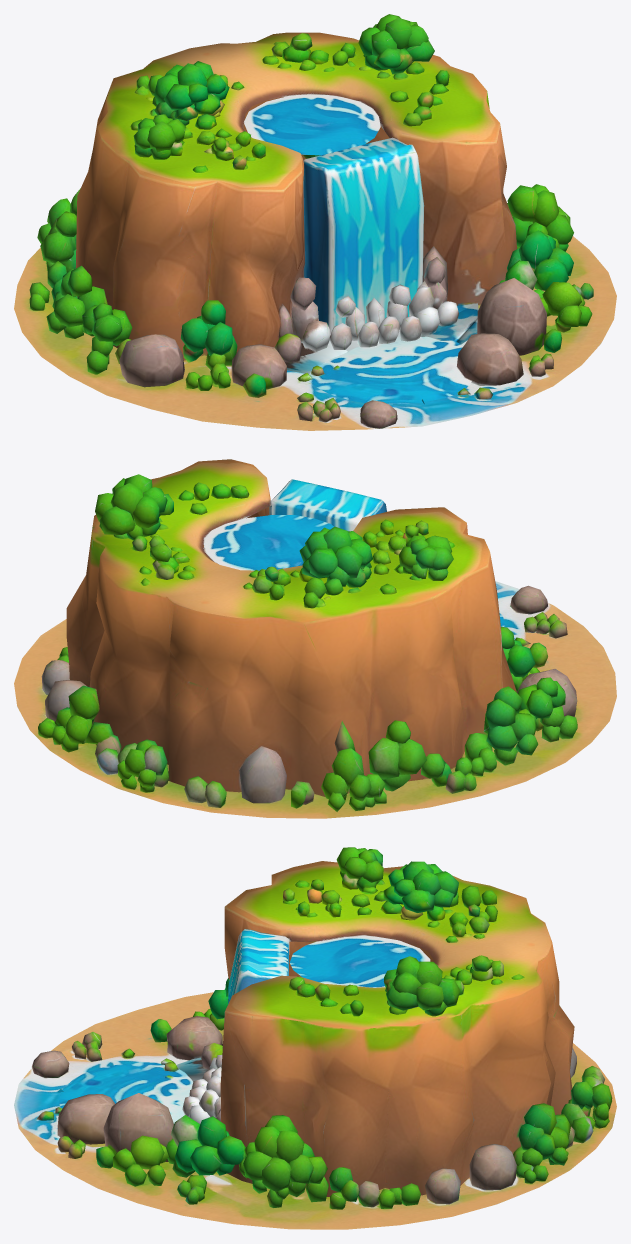
Rendered from r6c6_waterfall_stream.glb.
3 views of the same model, one above another, from view 1: azimuth 30°, elevation 25°; view 2: azimuth 150°, elevation 25°; view 3: azimuth 270°, elevation 25° (orthographic). The views are drawn at different scales.
Size of the model in its own units: 0.9727 by 0.3936 by 1.
Materials: 1 (1 with a texture image).
